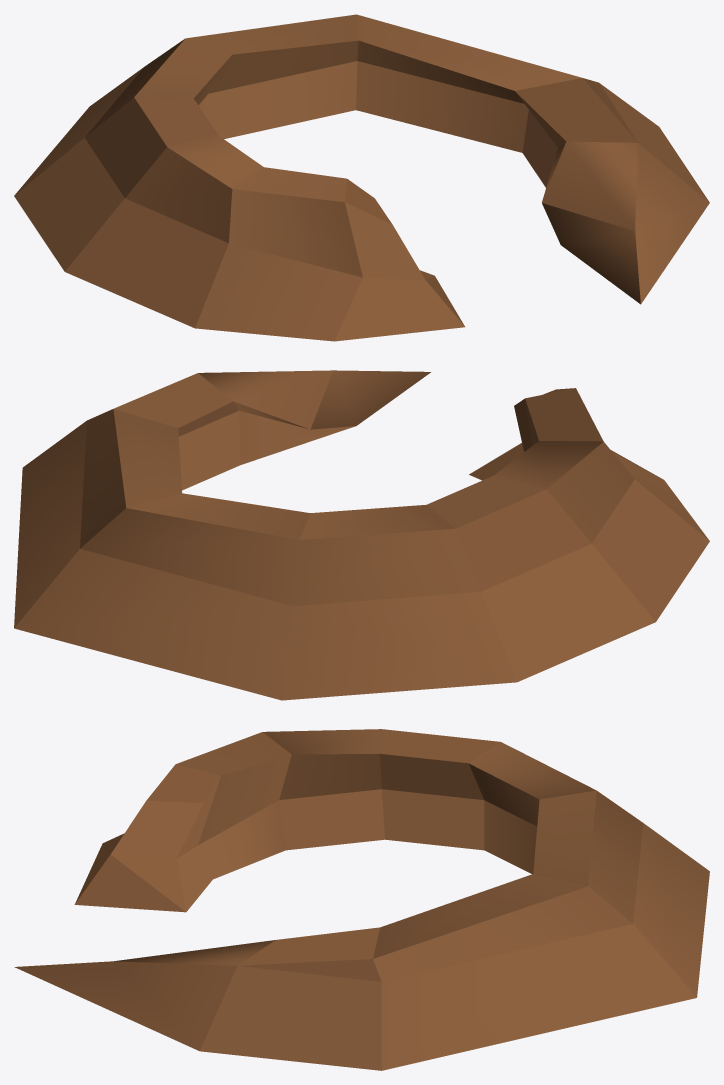
The model's file is crater.fbx.
3 views of the same model, one above another, from view 1: azimuth 30°, elevation 25°; view 2: azimuth 150°, elevation 25°; view 3: azimuth 270°, elevation 25° (orthographic). The views are drawn at different scales.
Parts seen in each view (by area): view 1: Crater; view 2: Crater; view 3: Crater.
Boxes of the visible parts, <box> form: Crater: <box>14,14,709,341</box>; Crater: <box>14,370,709,700</box>; Crater: <box>14,729,709,1070</box>.
Bounding box in the file's own units: 3073 × 525 × 3097.
